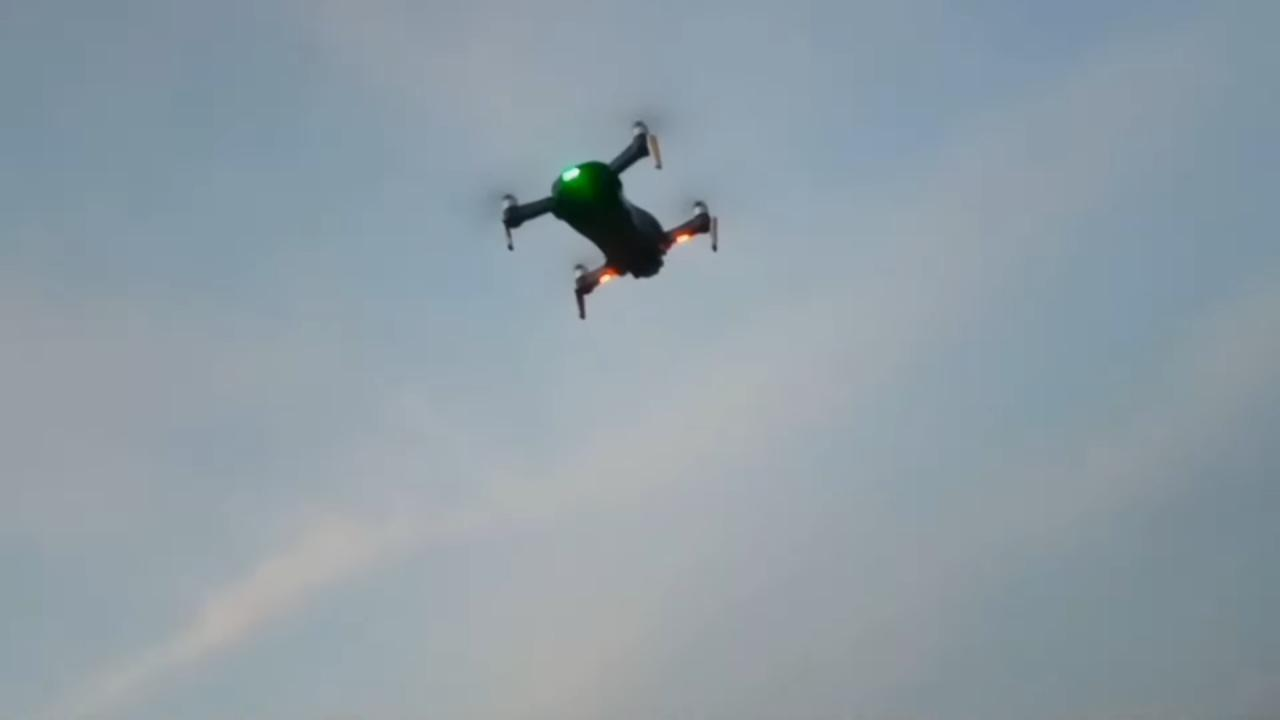Drone: (458, 93, 759, 349)
